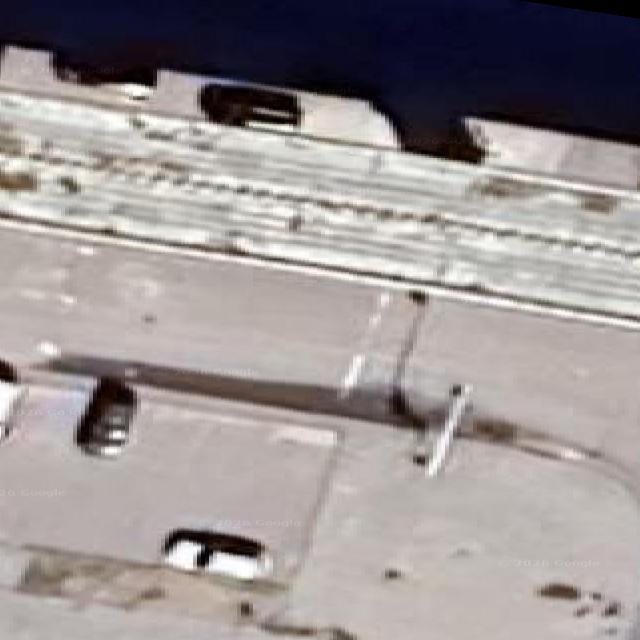car: (161, 528, 272, 580), (52, 51, 156, 100), (75, 377, 136, 455), (200, 81, 300, 127), (0, 360, 26, 440), (0, 380, 24, 440), (103, 81, 152, 100)
